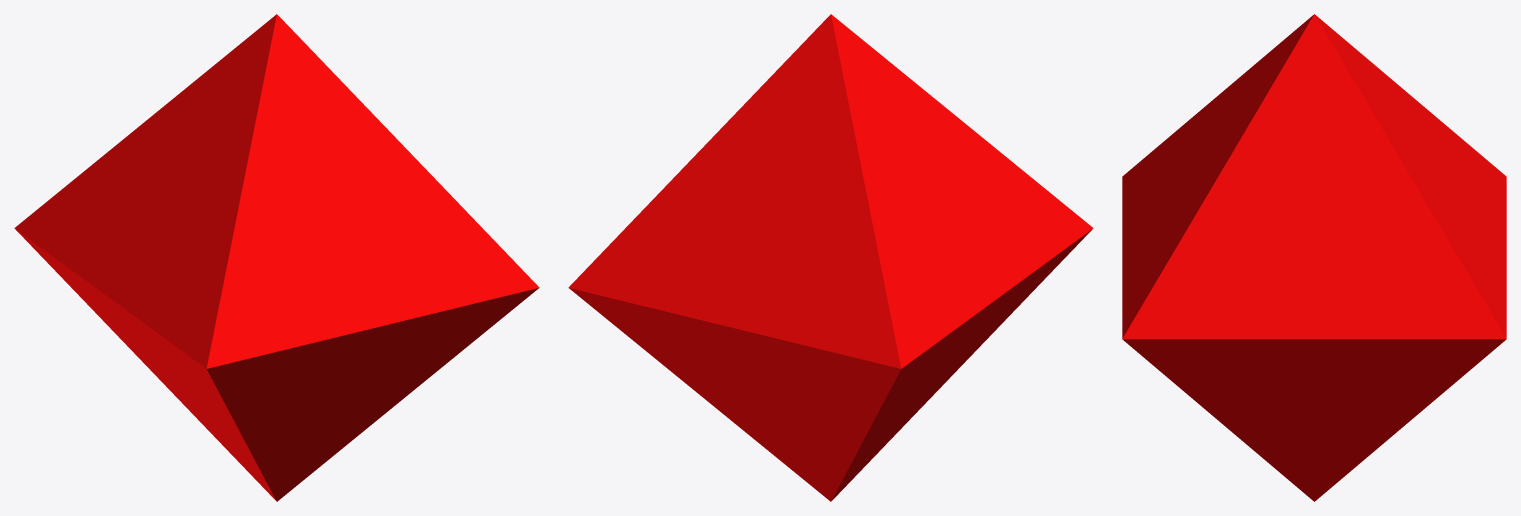
File: StartMenu1.fbx
3 views of the same model, side by side, from view 1: azimuth 30°, elevation 25°; view 2: azimuth 150°, elevation 25°; view 3: azimuth 270°, elevation 25° (orthographic).
Visible parts, largest first — view 1: BP_InteractableMenu; view 2: BP_InteractableMenu; view 3: BP_InteractableMenu.
Boxes of the visible parts, x1=… form: BP_InteractableMenu: x1=14, y1=14, x2=539, y2=501; BP_InteractableMenu: x1=568, y1=14, x2=1093, y2=501; BP_InteractableMenu: x1=1122, y1=14, x2=1506, y2=501.
Size of what is drawn, in the model's own units: 10 by 10 by 14.
